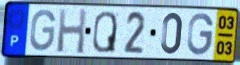0: (160, 11, 184, 56)
2: (123, 10, 147, 56)
G: (186, 12, 215, 58), (28, 8, 57, 53)
H: (56, 7, 89, 56)
Q: (91, 9, 118, 54)
